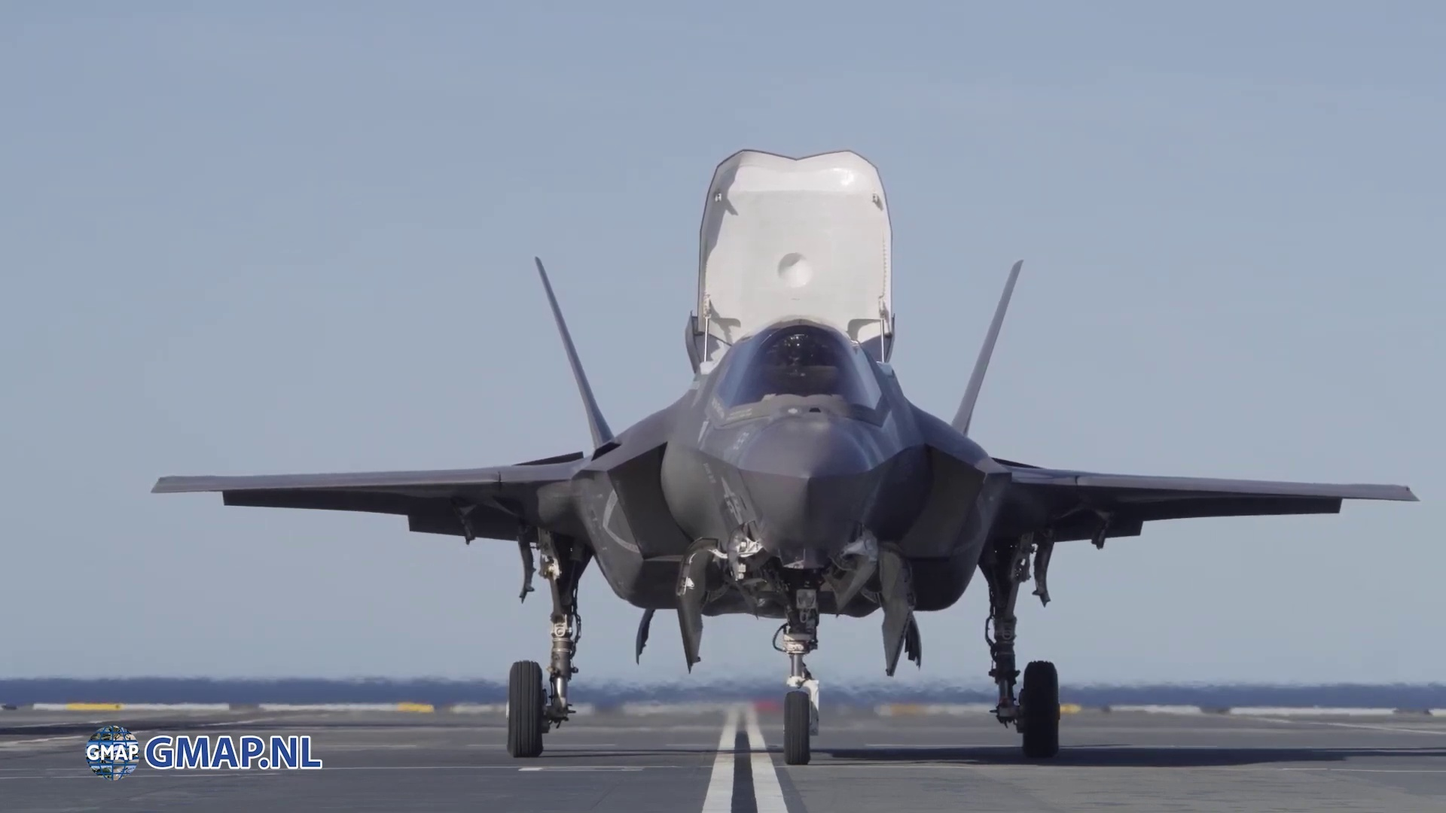F35: (149, 146, 1423, 765)
